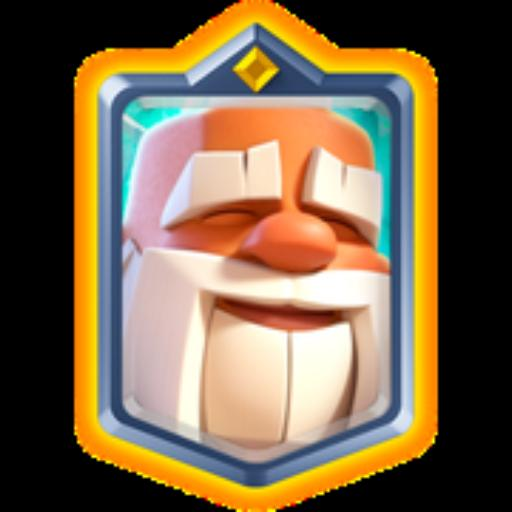monk: (105, 96, 401, 464)
